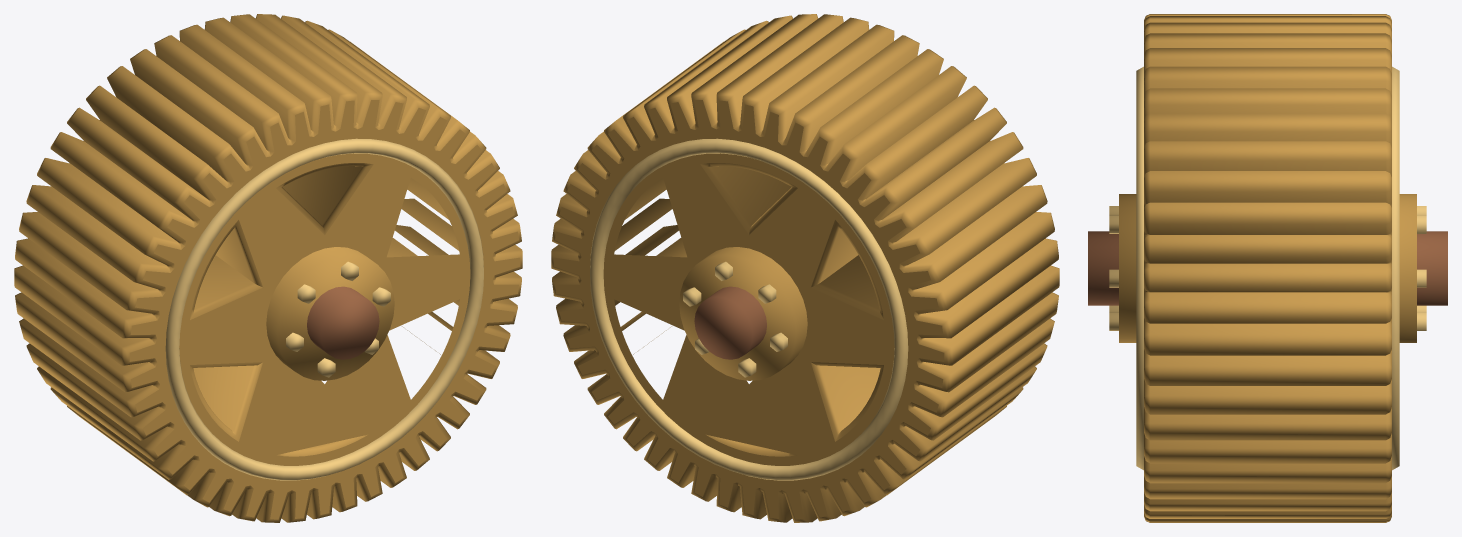
File: gear-48.glb
3 renders of one model, left to right at view 1: azimuth 30°, elevation 25°; view 2: azimuth 150°, elevation 25°; view 3: azimuth 270°, elevation 25°, orthographic. The views are drawn at different scales.
Parts seen in each view (by area): view 1: gear; view 2: gear; view 3: gear.
Boxes of the visible parts, bbox=[...] form: gear: bbox=[14, 14, 522, 522]; gear: bbox=[551, 14, 1059, 522]; gear: bbox=[1088, 14, 1447, 522].
Bounding box in the file's own units: 2.05 × 2.05 × 1.45.
